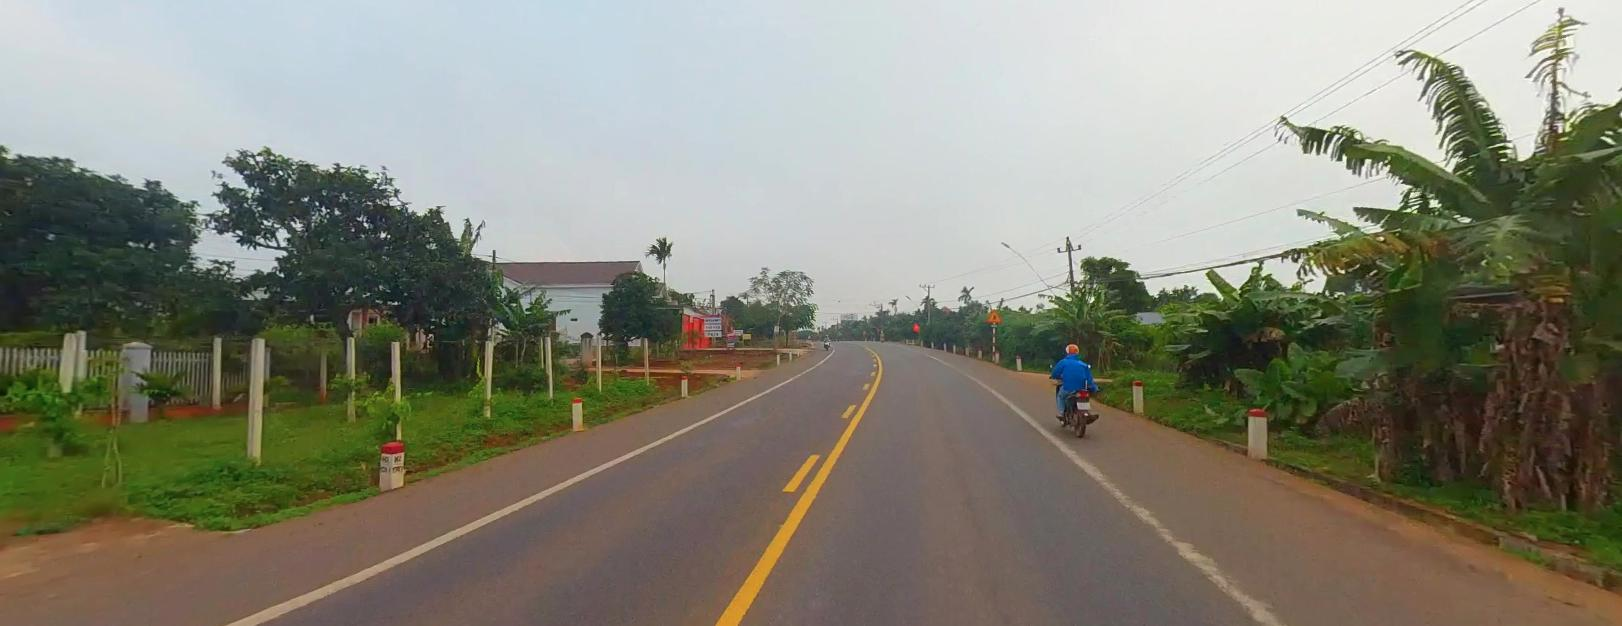Nguy hiem: (985, 308, 1003, 321), (986, 308, 1000, 320)
